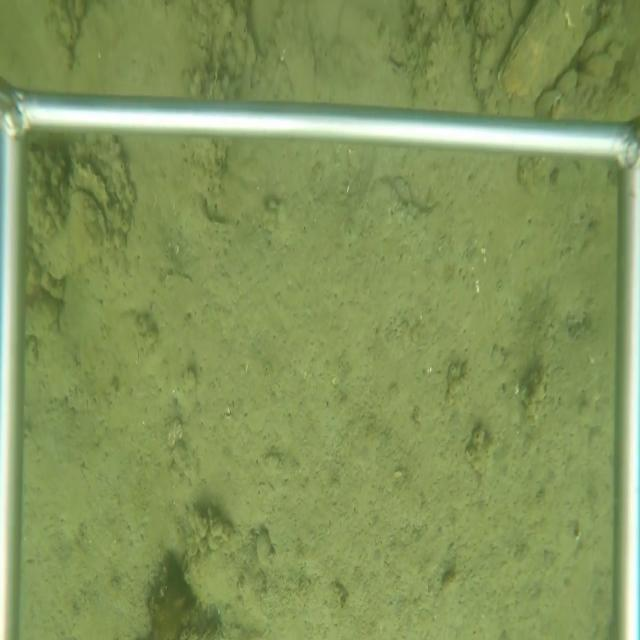Oyster-Closed: (497, 1, 599, 105), (70, 156, 118, 216)
Oyster-Indeterminate: (36, 185, 117, 283)
